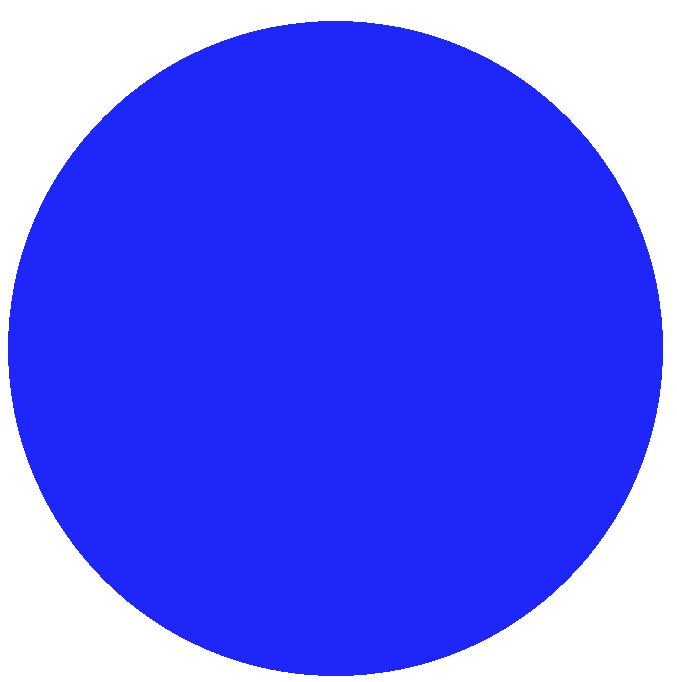blue_circle: (2, 10, 674, 682)
